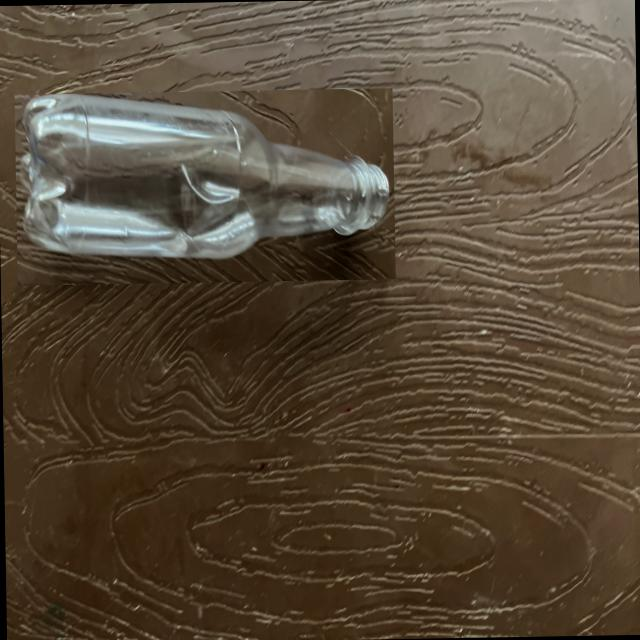PET_ClearBottle: (13, 87, 394, 286)
